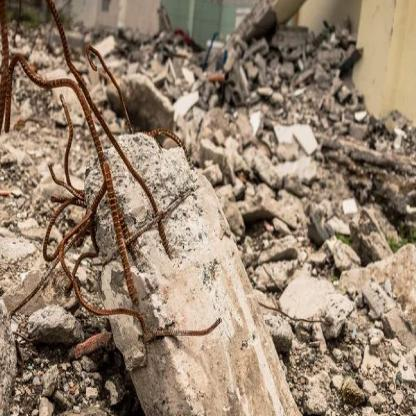rebar: (47, 0, 170, 257), (3, 51, 108, 253), (100, 184, 195, 268), (10, 221, 89, 319), (100, 161, 143, 307), (60, 256, 144, 324), (85, 42, 136, 134), (58, 92, 87, 195), (143, 315, 222, 345), (144, 127, 195, 167), (118, 201, 144, 269), (64, 251, 99, 299), (41, 202, 68, 261), (47, 160, 87, 199), (0, 1, 10, 136), (51, 197, 87, 208)
